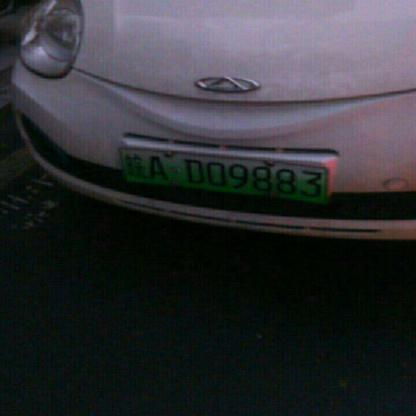lp: (121, 149, 329, 205)
